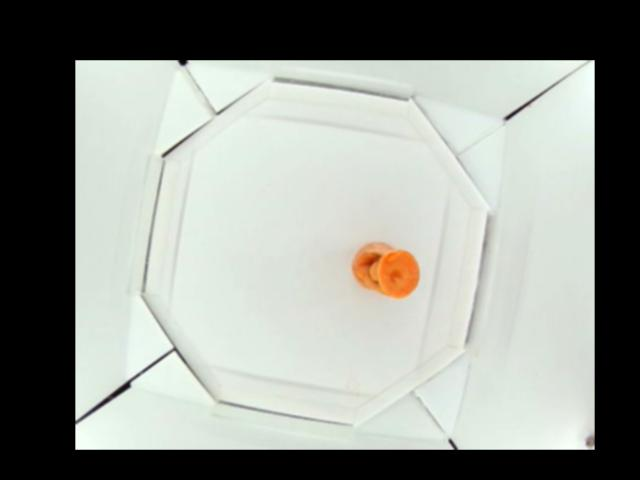Carrot: (352, 239, 420, 297)
